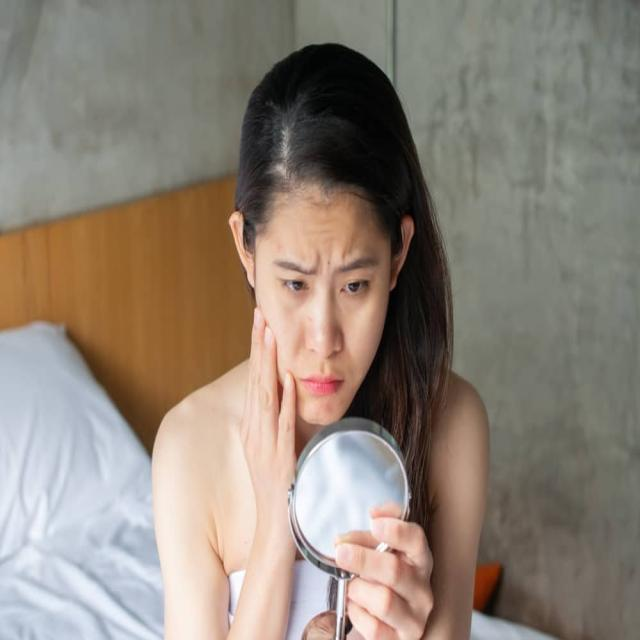dry: (286, 200, 366, 268)
